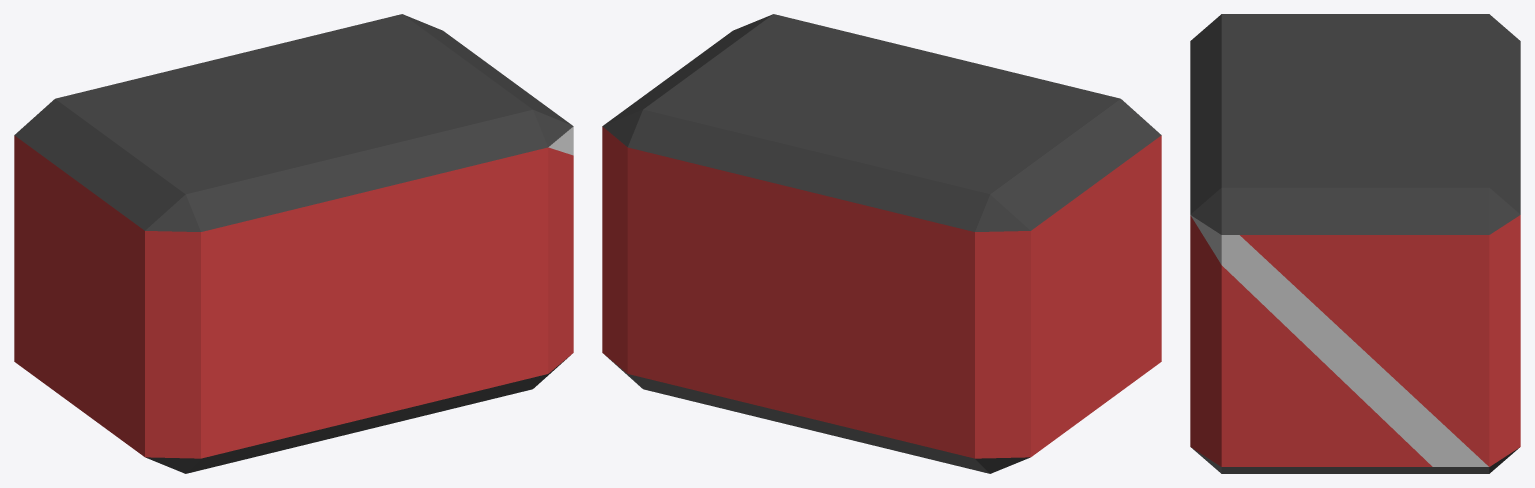
Rendered from SmallCase6.fbx.
3 views of the same model, side by side, from view 1: azimuth 30°, elevation 25°; view 2: azimuth 150°, elevation 25°; view 3: azimuth 270°, elevation 25° (orthographic). The views are drawn at different scales.
Visible parts, largest first — view 1: Cube.044; view 2: Cube.044; view 3: Cube.044.
Part boxes in pixels (x1=…): Cube.044: x1=14, y1=14, x2=573, y2=473; Cube.044: x1=602, y1=14, x2=1161, y2=473; Cube.044: x1=1190, y1=14, x2=1520, y2=473.
Size of the model in its own units: 72.28 by 45.05 by 47.11.
